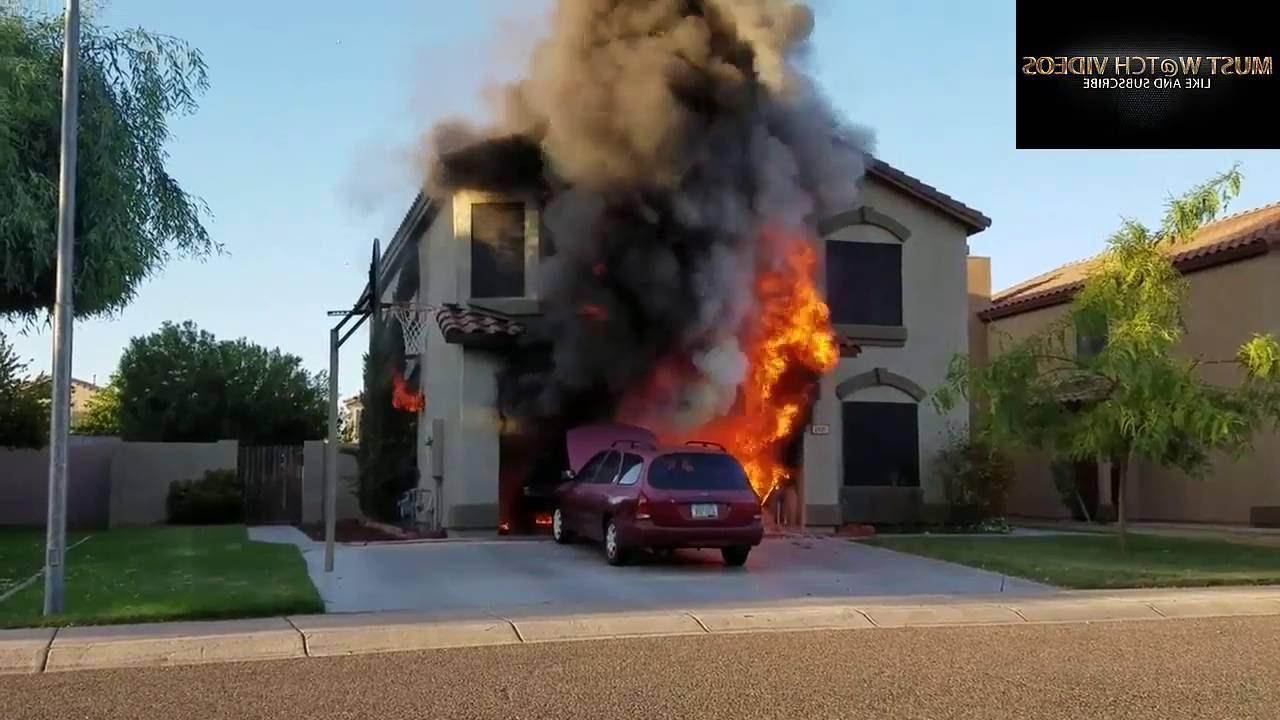Fire: (663, 235, 844, 510), (392, 367, 424, 410), (534, 512, 553, 526)
